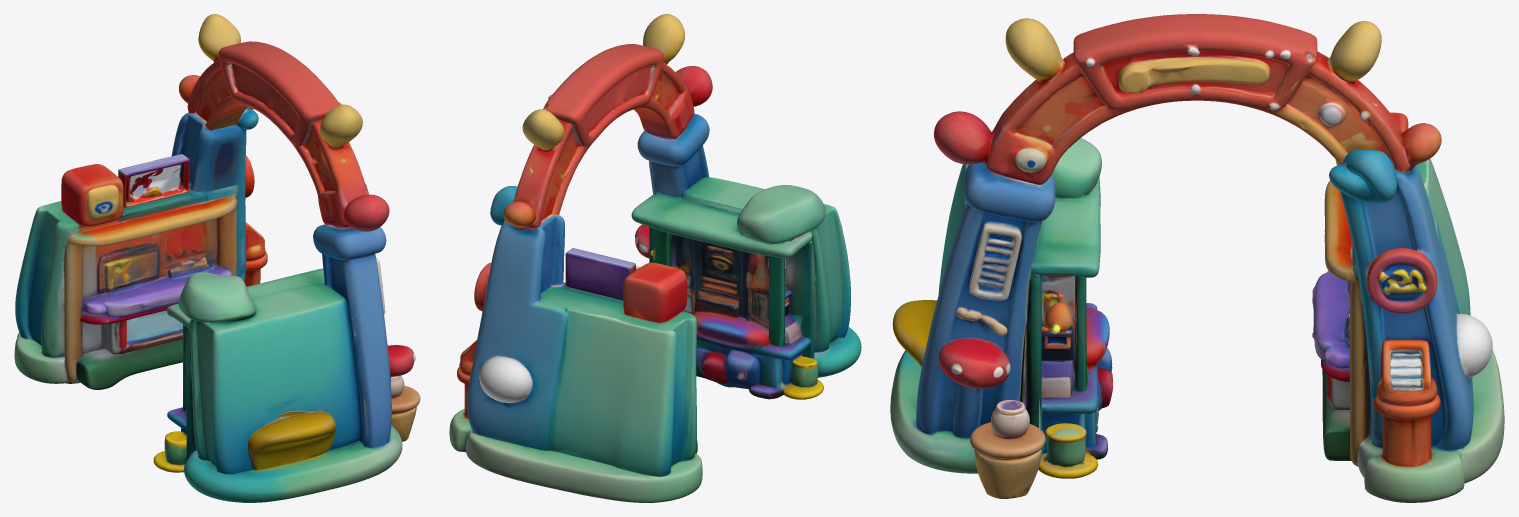
The model's file is building-amusement-park.glb.
3 views of the same model, side by side, from view 1: azimuth 30°, elevation 25°; view 2: azimuth 150°, elevation 25°; view 3: azimuth 270°, elevation 25° (orthographic). The views are drawn at different scales.
Visible parts, largest first — view 1: tripo_node_c9d14ef5-a07c-4f6d-b6c3-1cbbfa47bf5b; view 2: tripo_node_c9d14ef5-a07c-4f6d-b6c3-1cbbfa47bf5b; view 3: tripo_node_c9d14ef5-a07c-4f6d-b6c3-1cbbfa47bf5b.
Boxes of the visible parts, x1,y1,x2,y2 form: tripo_node_c9d14ef5-a07c-4f6d-b6c3-1cbbfa47bf5b: (14, 14, 420, 502); tripo_node_c9d14ef5-a07c-4f6d-b6c3-1cbbfa47bf5b: (449, 14, 861, 502); tripo_node_c9d14ef5-a07c-4f6d-b6c3-1cbbfa47bf5b: (890, 14, 1504, 502).
Size of the model in its own units: 7.62 by 10 by 12.49.
1 material, 1 textured.
